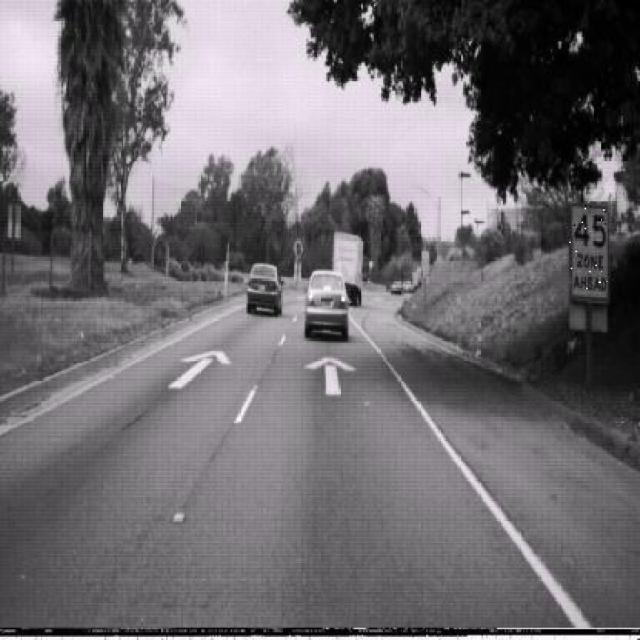zoneAhead45: (569, 203, 610, 305)
